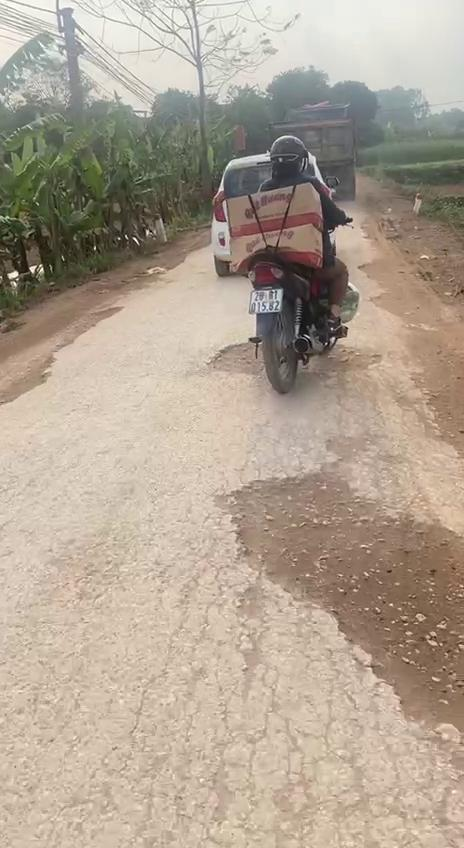pothole: (214, 472, 464, 740), (0, 304, 128, 414), (197, 330, 385, 384), (359, 259, 422, 328)
